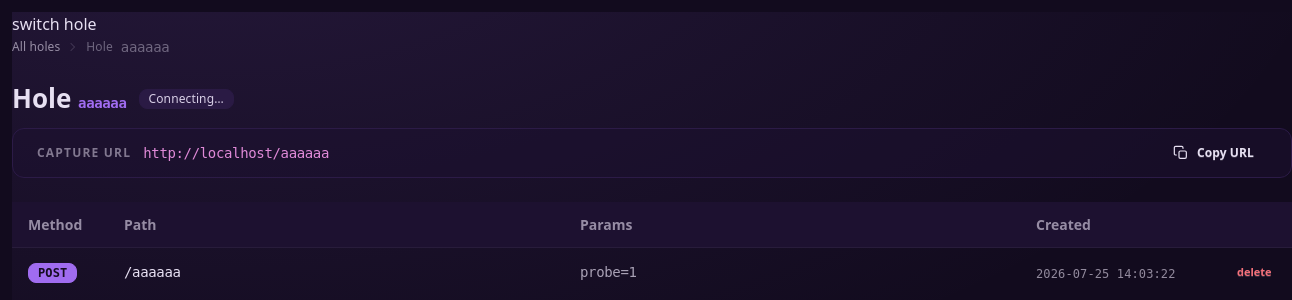
Test: Hole live stream › does not show one hole's requests under another hole's heading
The width and height of the screenshot is (1292, 300).
Expected: the link "/aaaaaa" is shown, [124,261,181,283]
Click the link "switch hole": {"x": 54, "y": 24} [12,13,97,35]
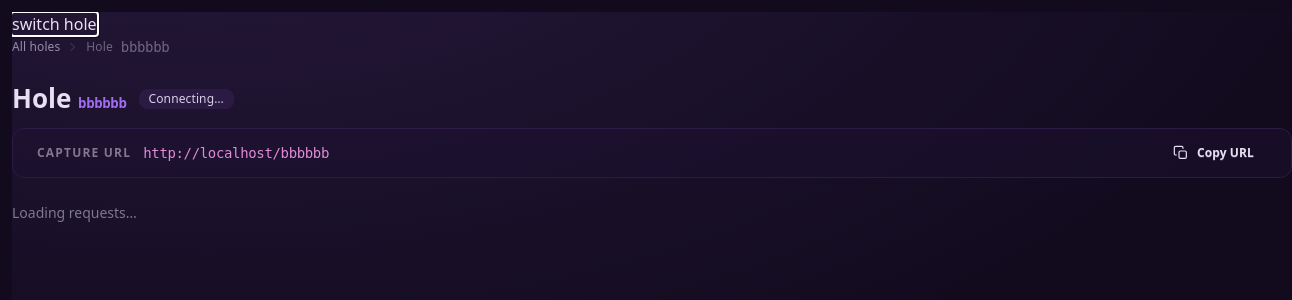
Result: the text "/aaaaaa" is gone
Result: the text "Loading requests…" is shown at [12,203,137,222]
Result: the heading shows "bbbbbb" at [78,95,126,111]
